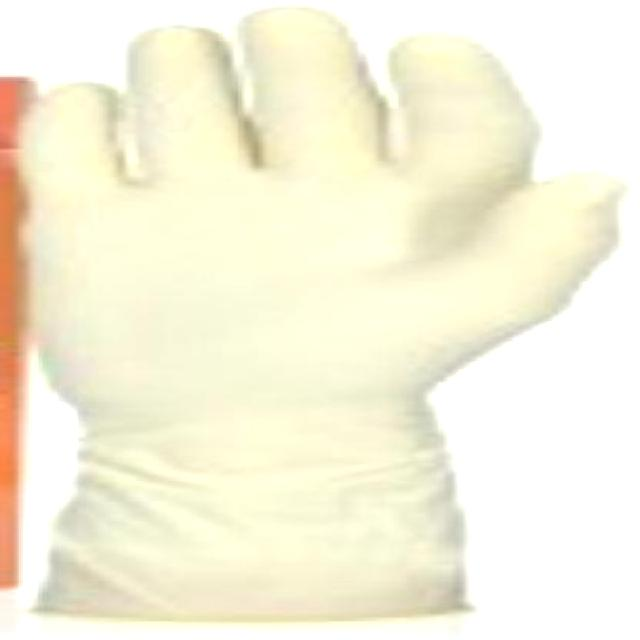glove: (21, 2, 633, 623)
